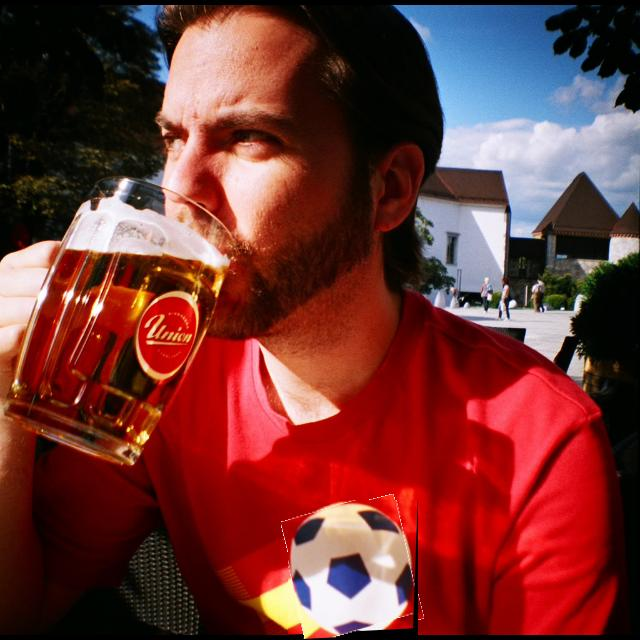Football: (288, 500, 418, 640)
